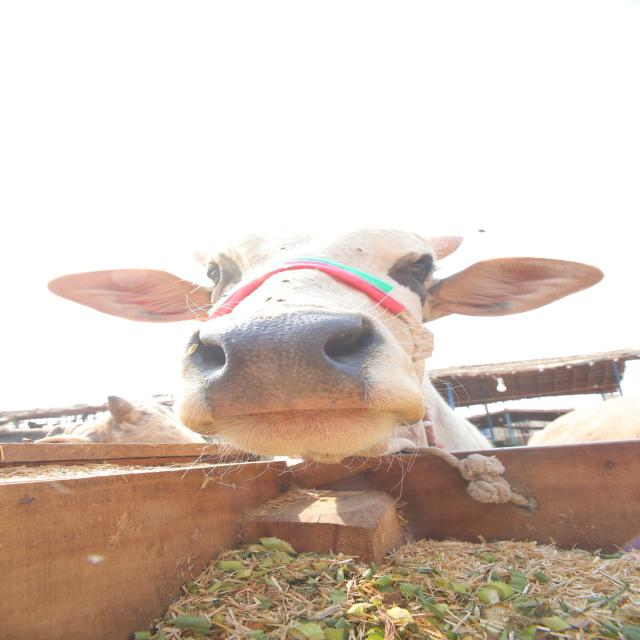muzzles: (182, 308, 392, 424)
